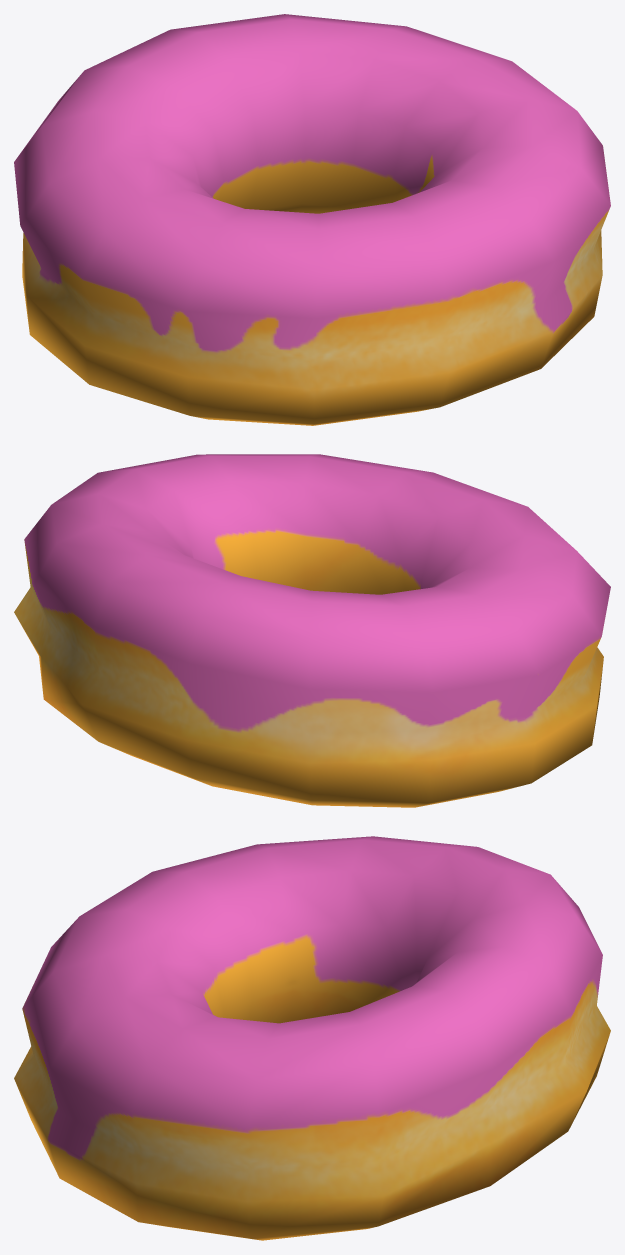
The model's file is donutpink.glb.
The picture shows the model from 3 angles, top to bottom: view 1: azimuth 30°, elevation 25°; view 2: azimuth 150°, elevation 25°; view 3: azimuth 270°, elevation 25°; orthographic projection. The views are drawn at different scales.
Parts seen in each view (by area): view 1: donutpink; view 2: donutpink; view 3: donutpink.
Part boxes in pixels (box(x1,y1,x2,y2)): donutpink: box(14, 14, 610, 425); donutpink: box(14, 454, 610, 807); donutpink: box(14, 836, 610, 1240).
Bounding box in the file's own units: 0.2504 × 0.1033 × 0.2371.
1 material, 1 textured.
